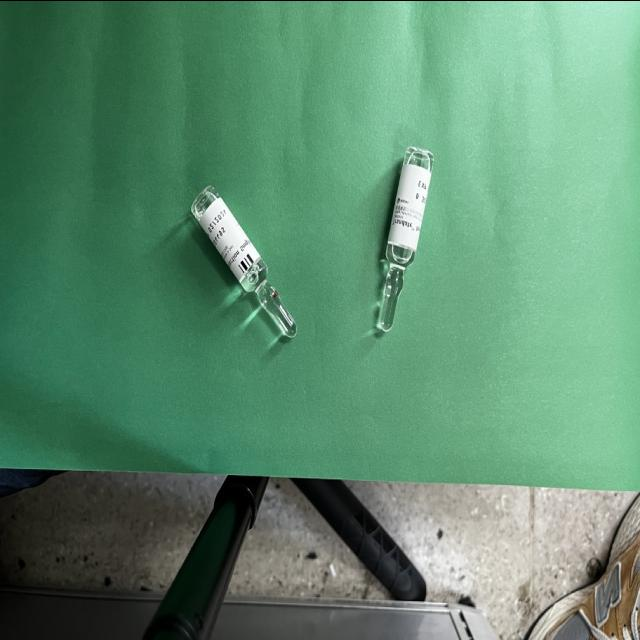Ampoules: (190, 183, 296, 336), (380, 145, 432, 331)
